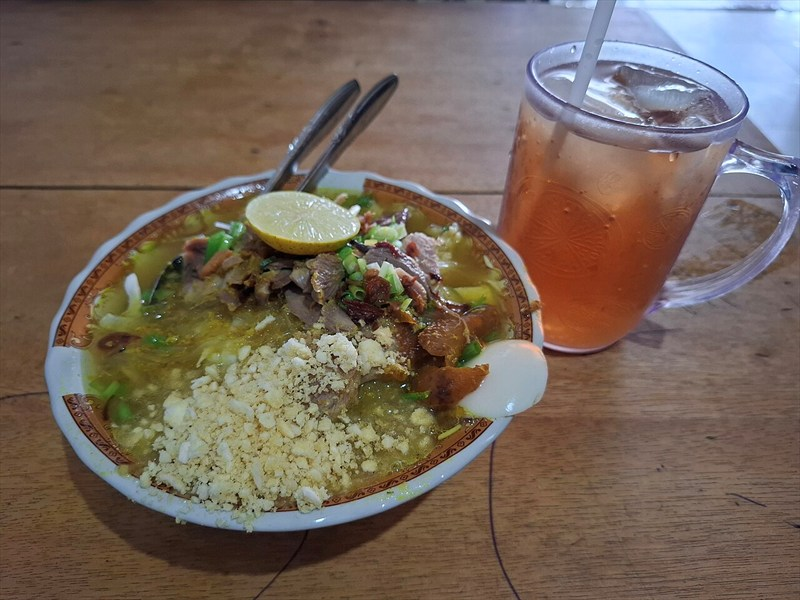Soto Ayam: (82, 14, 783, 531)
